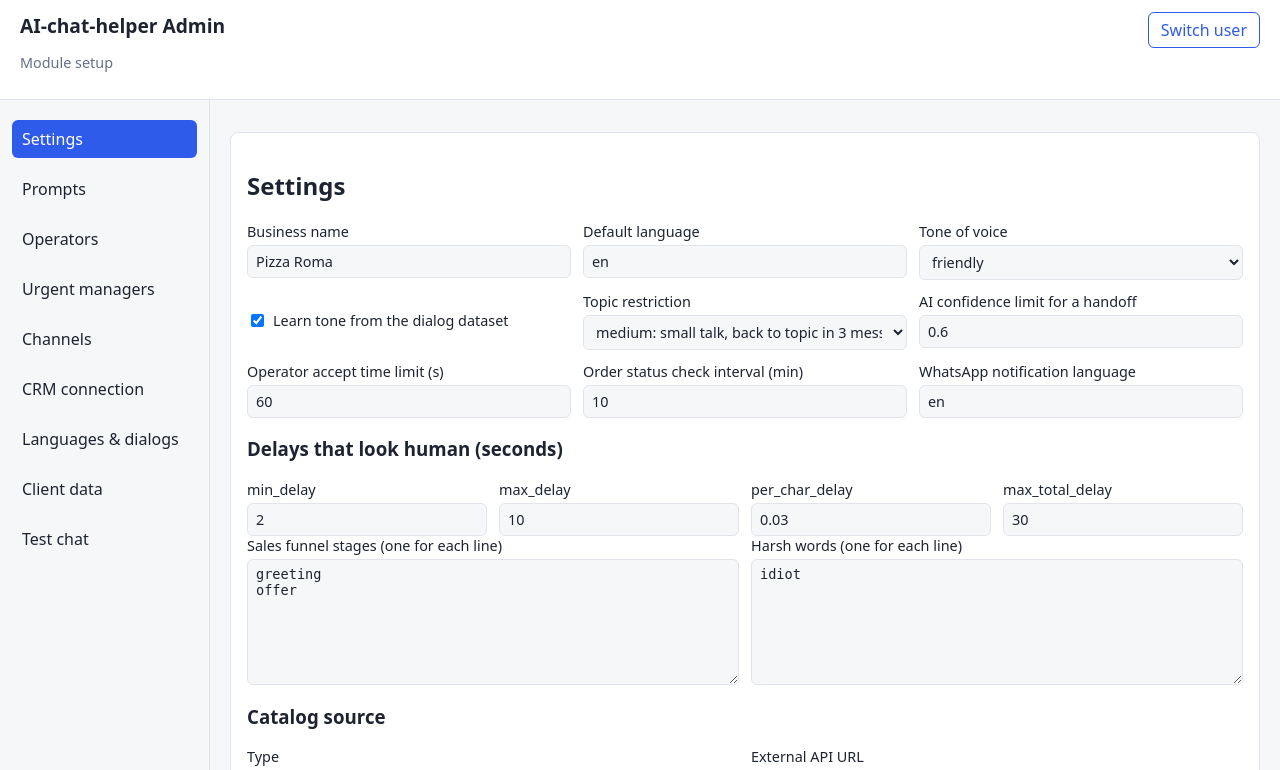
loads the settings and saves a new version
The width and height of the screenshot is (1280, 770).
Replace the text in the field labelled "Business name" with "Pizza Napoli": (409, 261) [247,245,571,278]
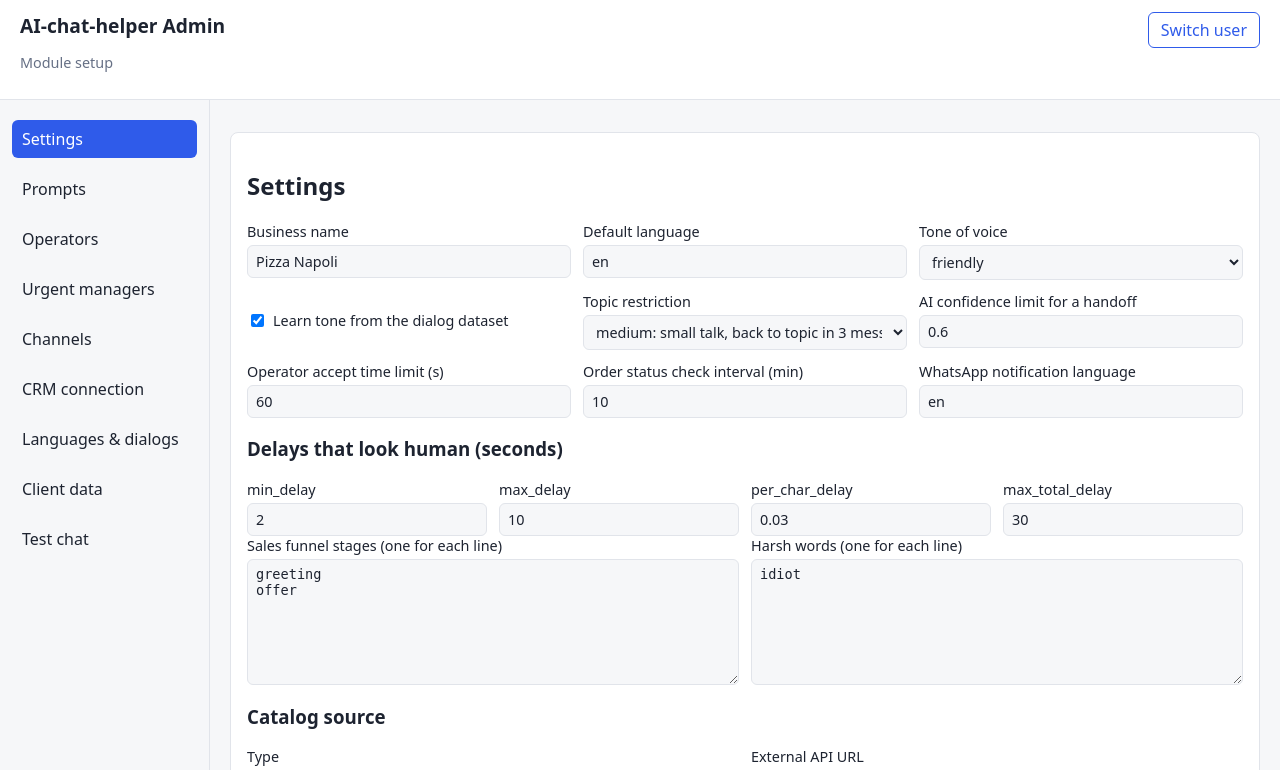
Select "strict: only products and orders" in the dropdown labelled "Topic restriction": (745, 332) [583,315,907,350]
(page scrolled)
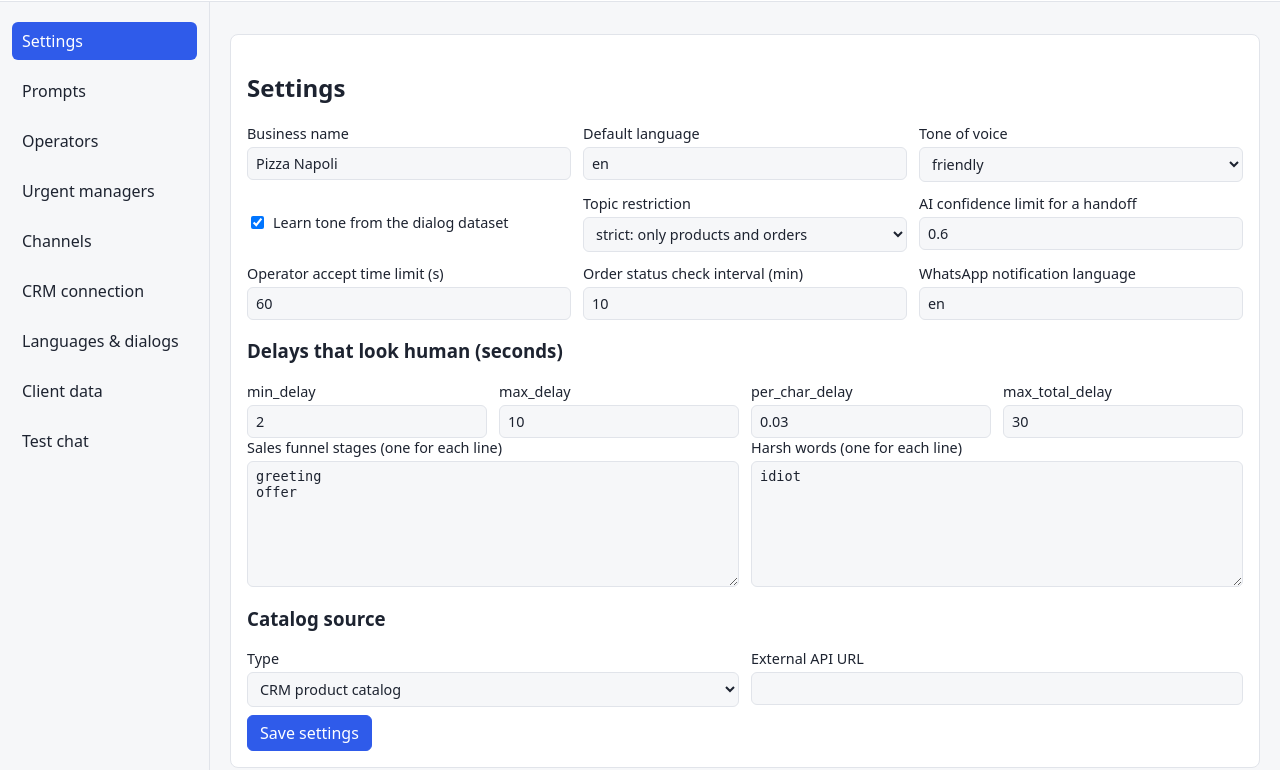
Click the button "Save settings": (309, 734) [247,716,372,752]
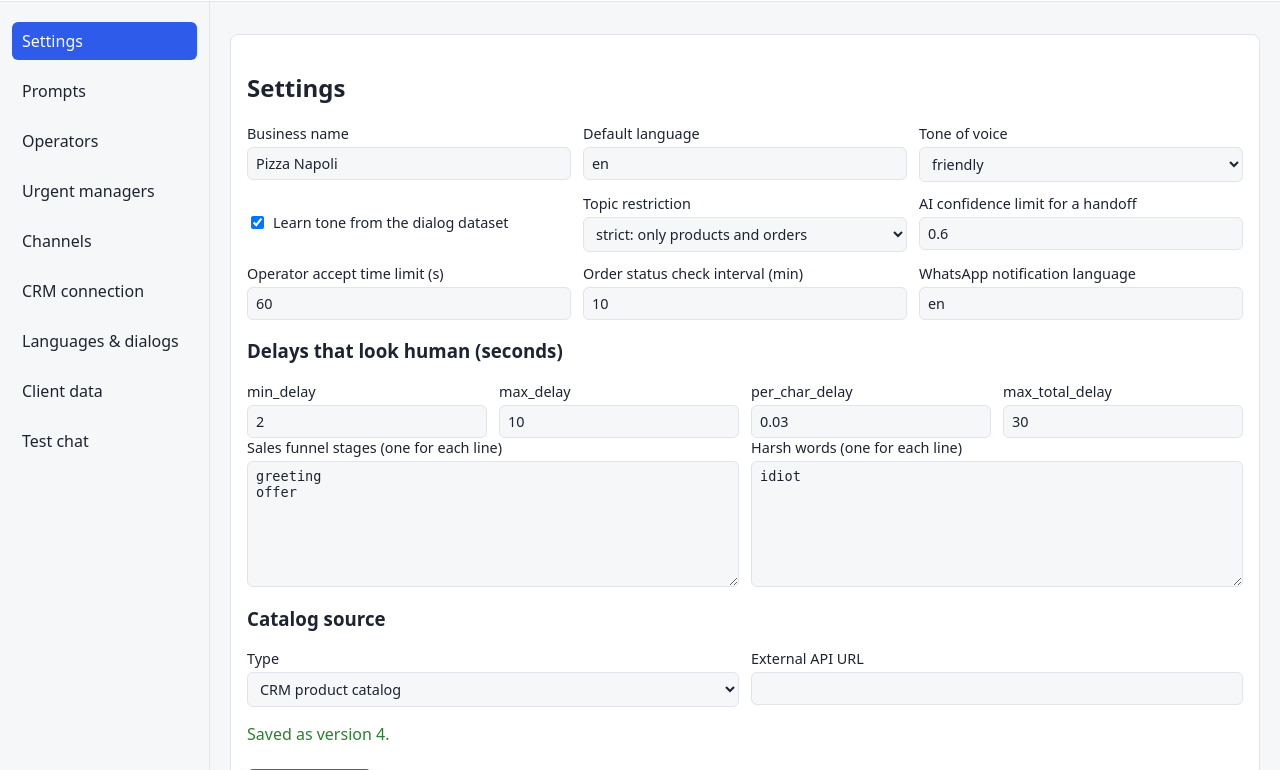
Check: the text "Saved as version 4." is shown, box [247,724,390,746]
